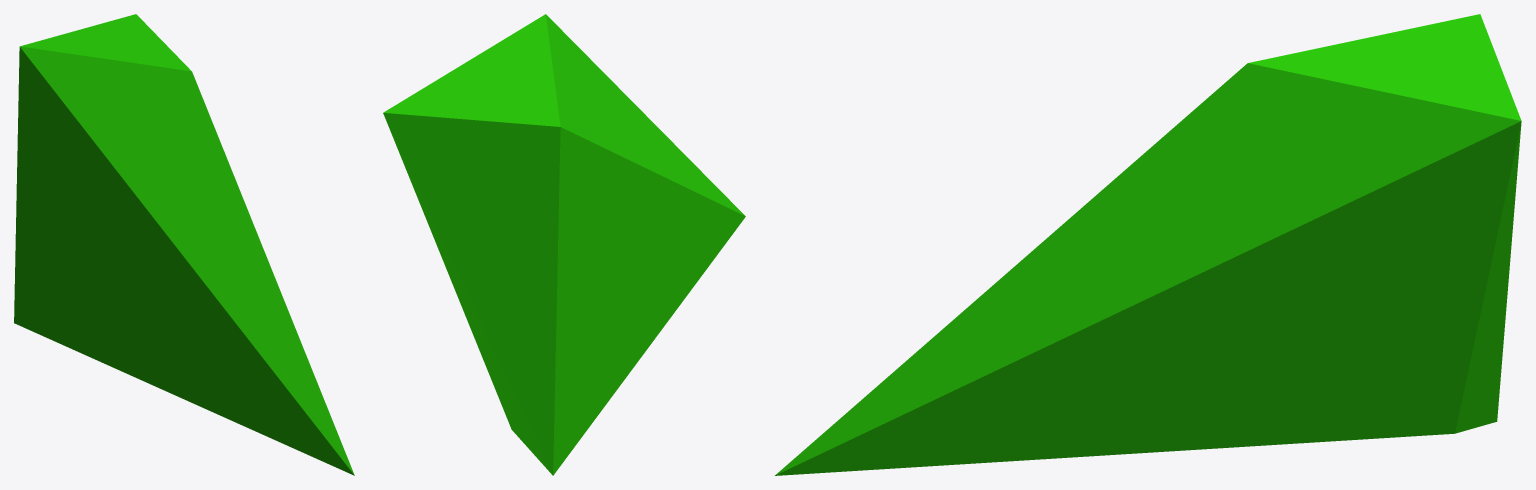
File: waste_bin_convex_piece_028.obj
The picture shows the model from 3 angles, left to right: view 1: azimuth 30°, elevation 25°; view 2: azimuth 150°, elevation 25°; view 3: azimuth 270°, elevation 25°; orthographic projection. The views are drawn at different scales.
Bounding box in the file's own units: 0.0138 × 0.0294 × 0.047.
